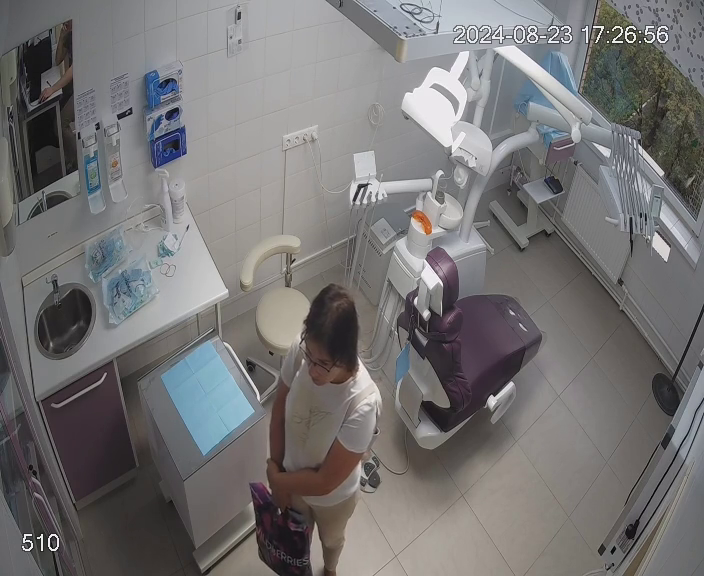Empty: (374, 251, 544, 450)
